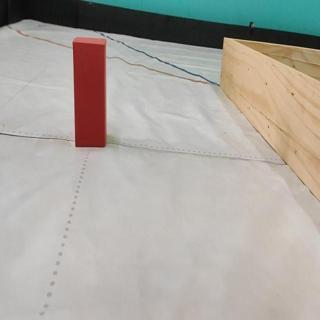redbox: (72, 37, 106, 147)
